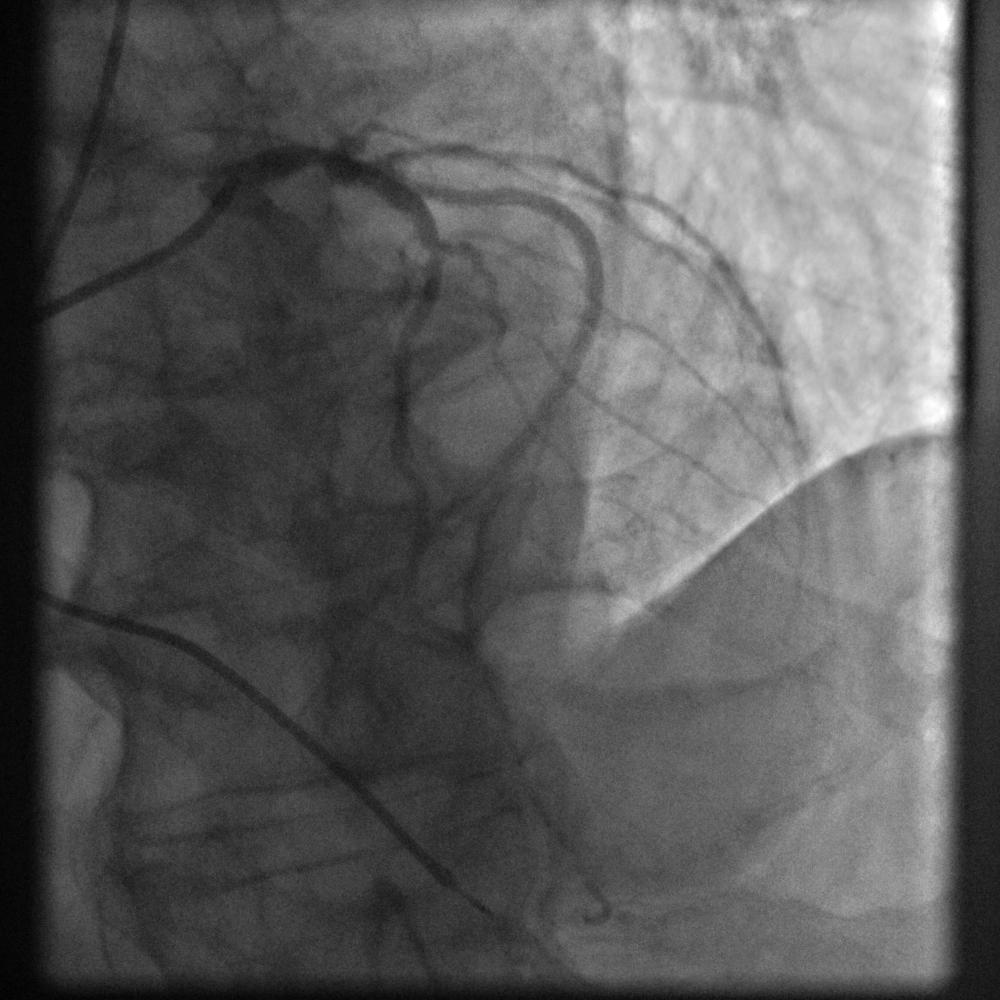Stenosis: (413, 224, 477, 277)
